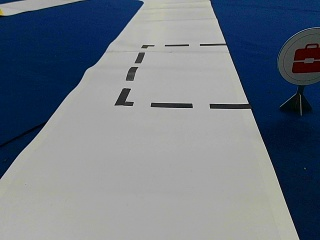company: (278, 26, 319, 84)
